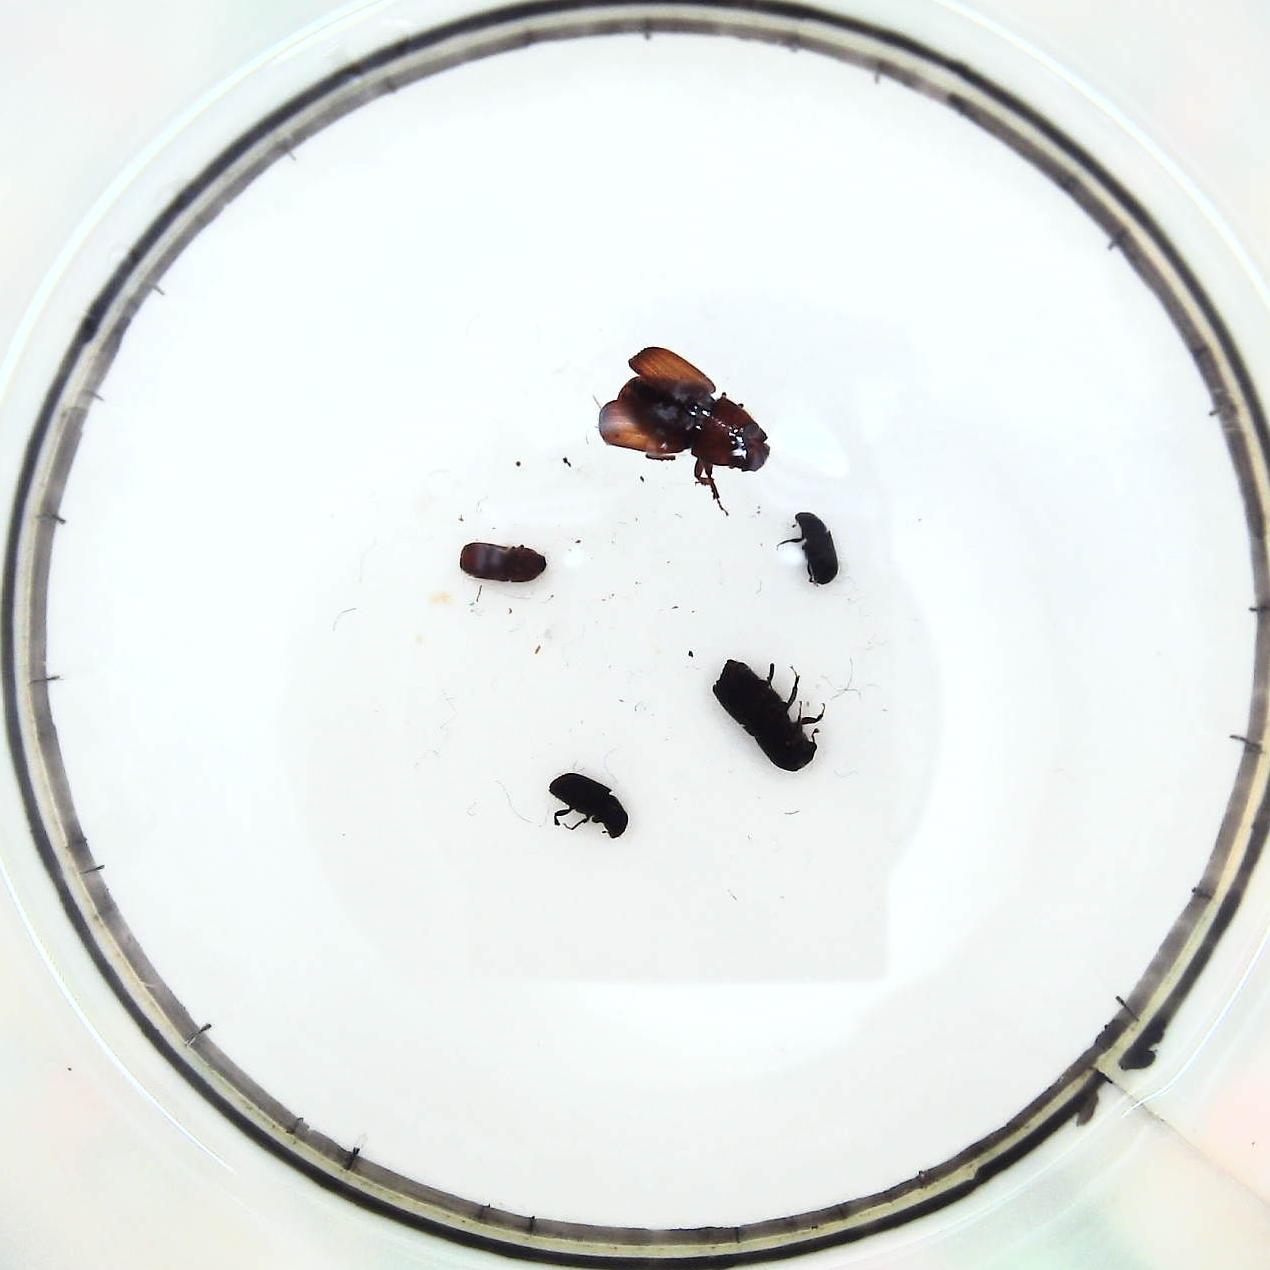Boerner: (713, 656, 816, 772)
Leconte: (600, 344, 771, 475)
Linnaeus: (458, 541, 548, 586)
armandi: (548, 771, 627, 836)
coleoptera: (789, 508, 839, 584)
